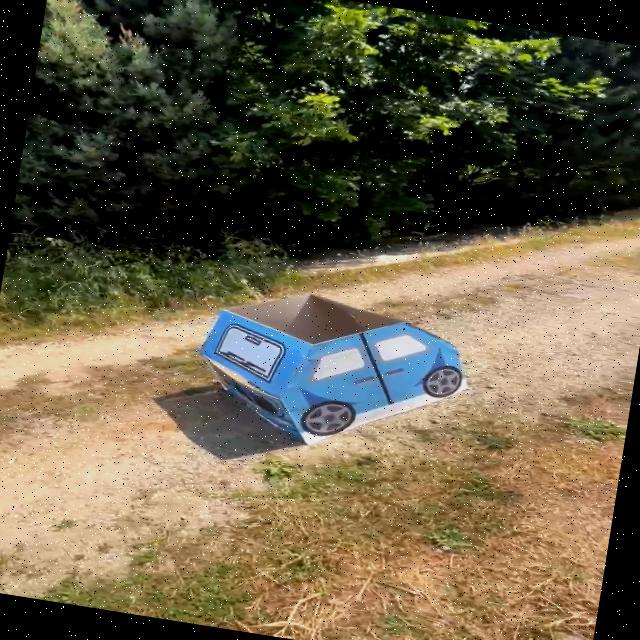blue_car: (168, 256, 485, 486)
